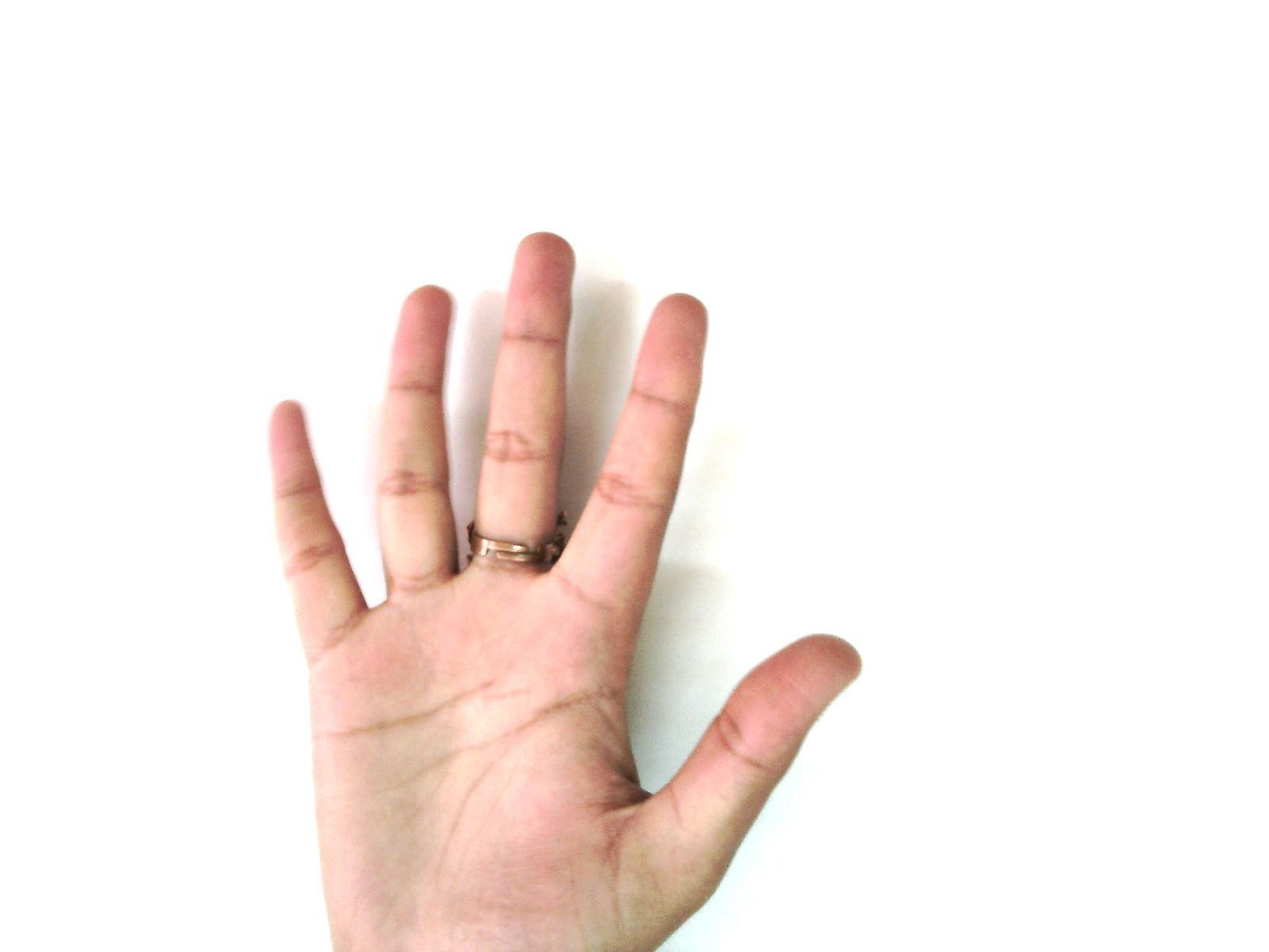open_palm: (264, 230, 865, 951)
